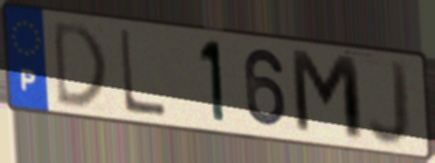1: (194, 37, 228, 129)
6: (242, 47, 290, 131)
D: (51, 17, 109, 109)
J: (365, 57, 413, 150)
L: (116, 26, 169, 121)
M: (287, 46, 368, 146)
